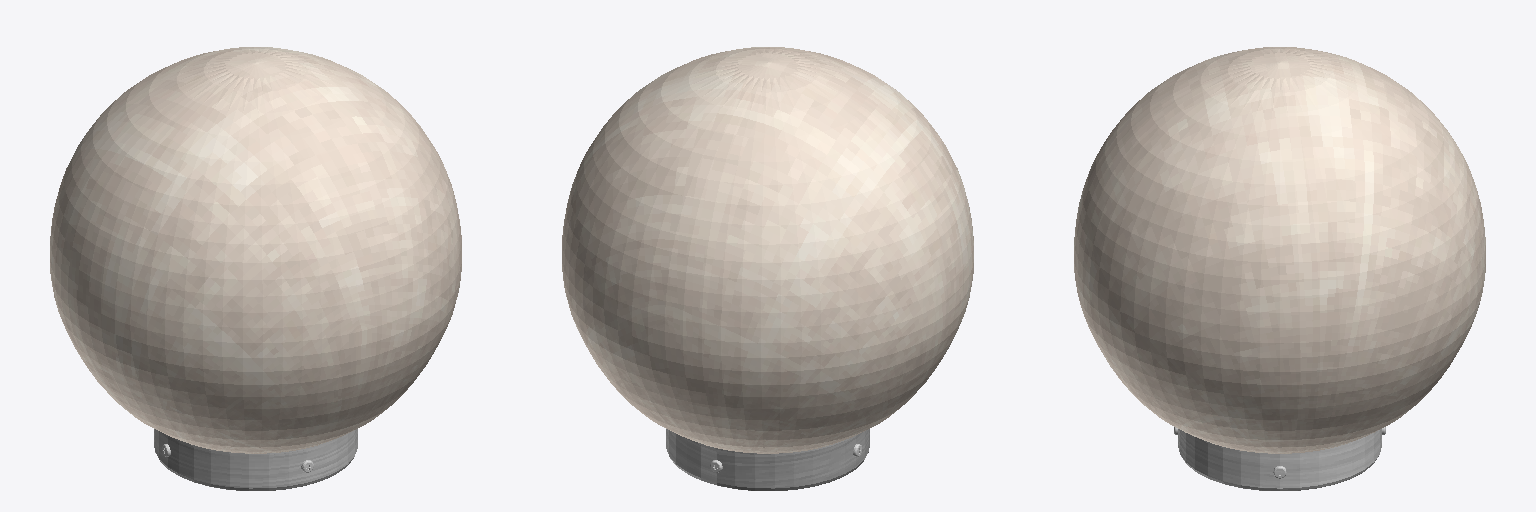
3 renders of one model, left to right at view 1: azimuth 30°, elevation 25°; view 2: azimuth 150°, elevation 25°; view 3: azimuth 270°, elevation 25°, orthographic.
Visible parts, largest first — view 1: Foco; view 2: Foco; view 3: Foco.
Boxes of the visible parts, x1=… form: Foco: x1=50, y1=47, x2=461, y2=490; Foco: x1=562, y1=47, x2=973, y2=490; Foco: x1=1074, y1=47, x2=1485, y2=490.
Bounding box in the file's own units: 5.44 × 5.62 × 5.44.
Materials: 1 (1 with a texture image).